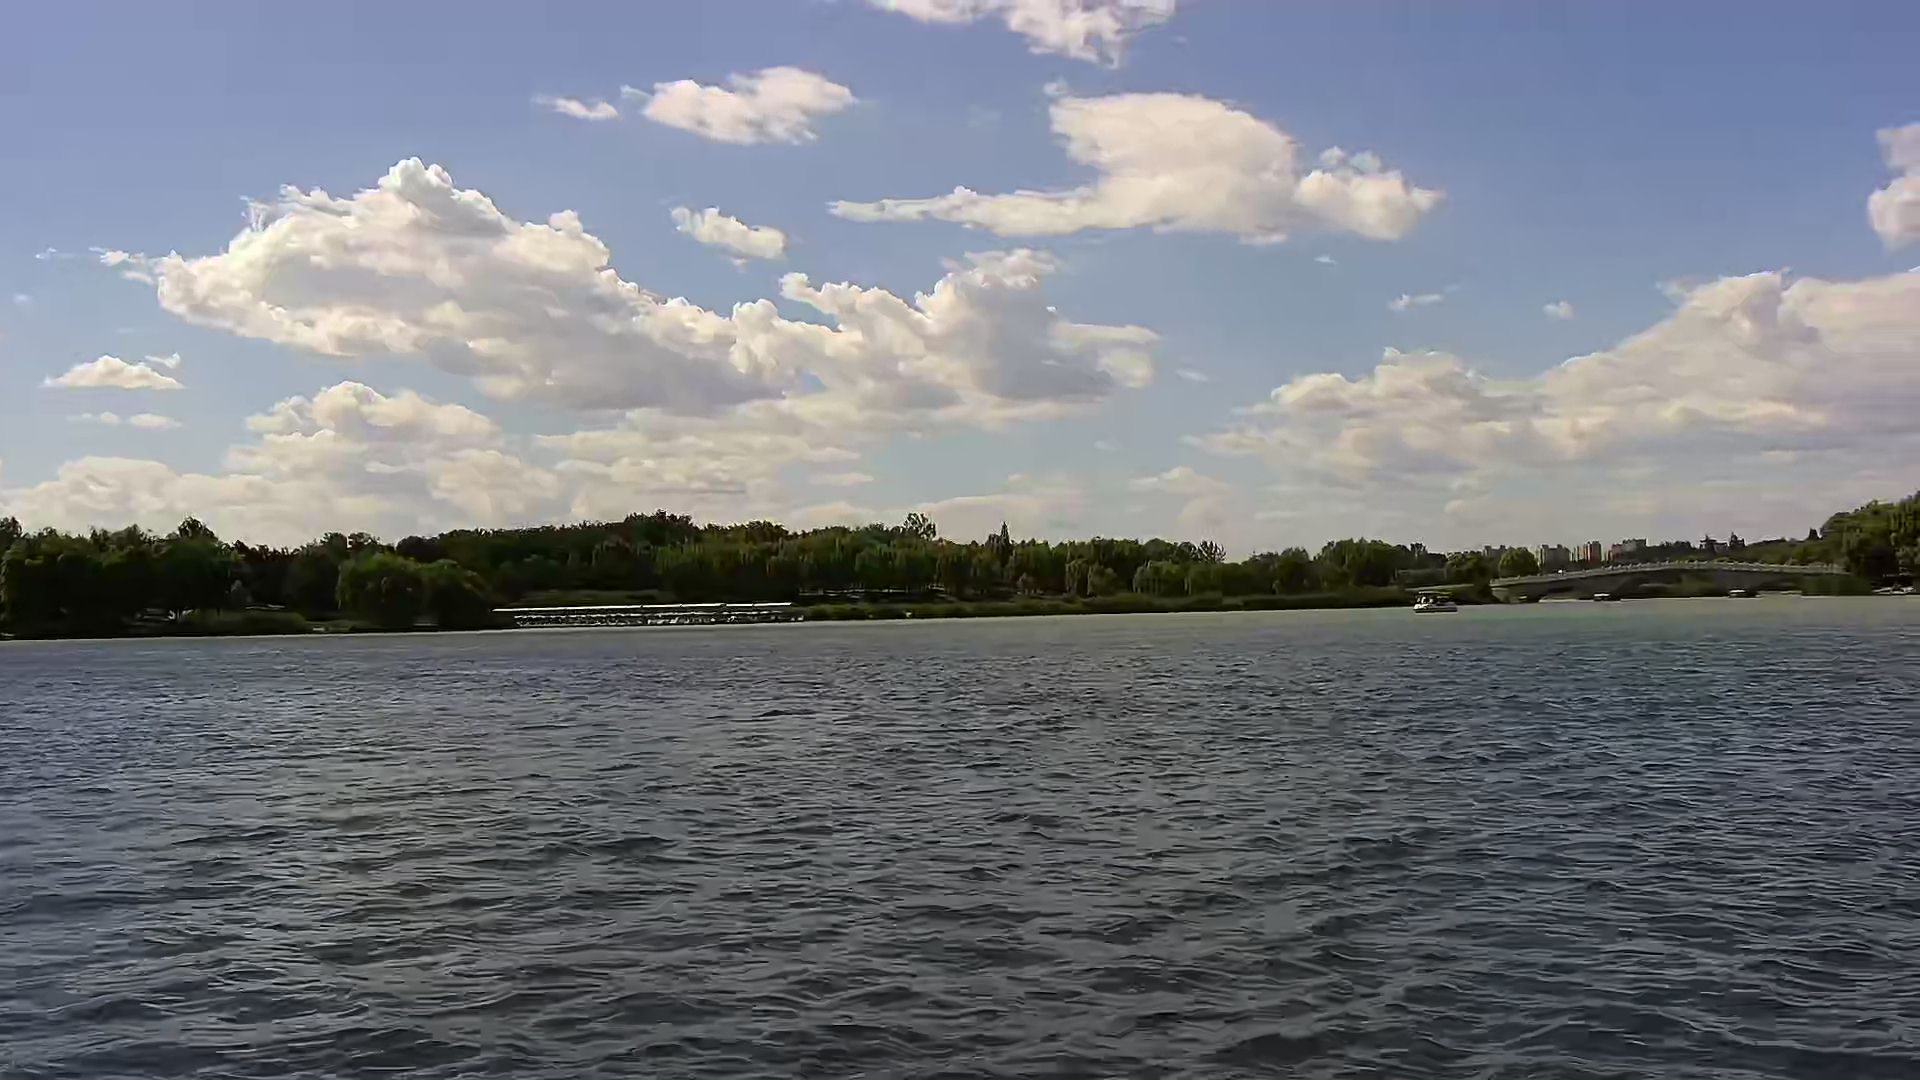boat: (1411, 589, 1461, 612)
bridge: (1490, 554, 1866, 607), (500, 603, 796, 622)
